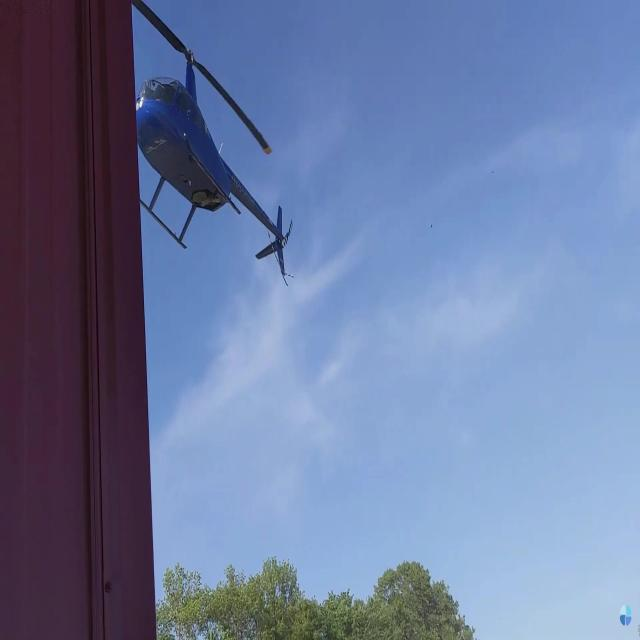CIV_HELO: (136, 45, 286, 279)
